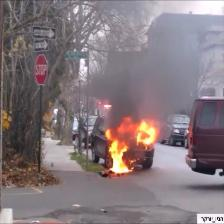fire: (105, 121, 155, 174)
smoke: (112, 45, 189, 115)
